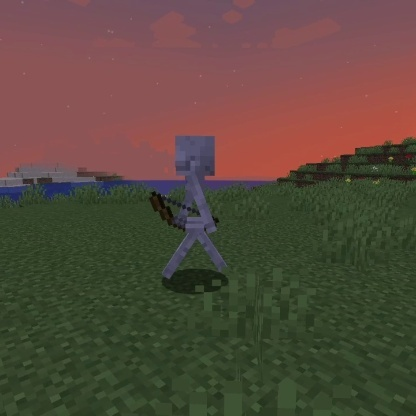skeleton: (146, 132, 231, 283)
